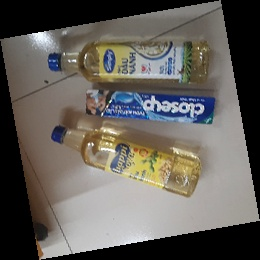CloseUp Tuyet: (85, 88, 216, 128)
Happy Soya: (51, 123, 203, 199)
Simply: (48, 37, 210, 82)
